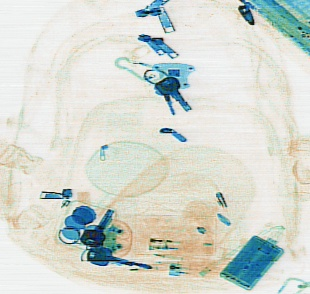lighter: (146, 230, 213, 253), (166, 259, 228, 278)
powerbank: (217, 227, 286, 291)
